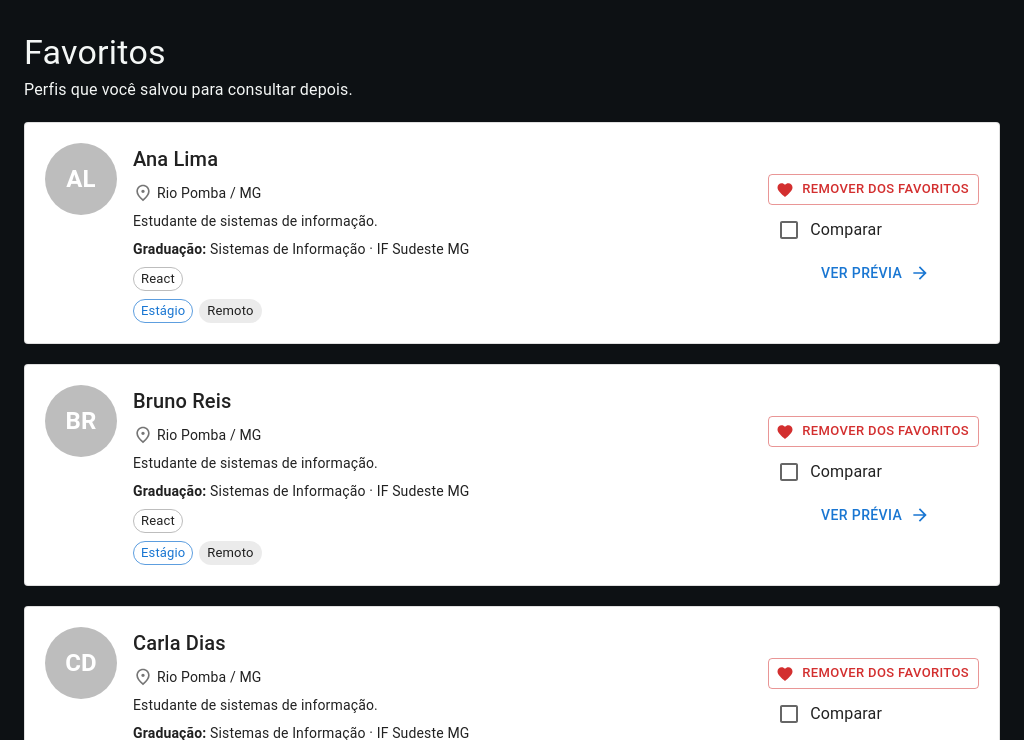
Test case: FavoritesView › selection for comparison › lets the user select two talents and blocks a third
This screenshot has width=1024, height=740.
Check: the heading "Ana Lima" is shown, box [133,143,218,175]
Click the 1st checkbox labelled "Comparar" at {"x": 830, "y": 230}, box [777,218,882,242]
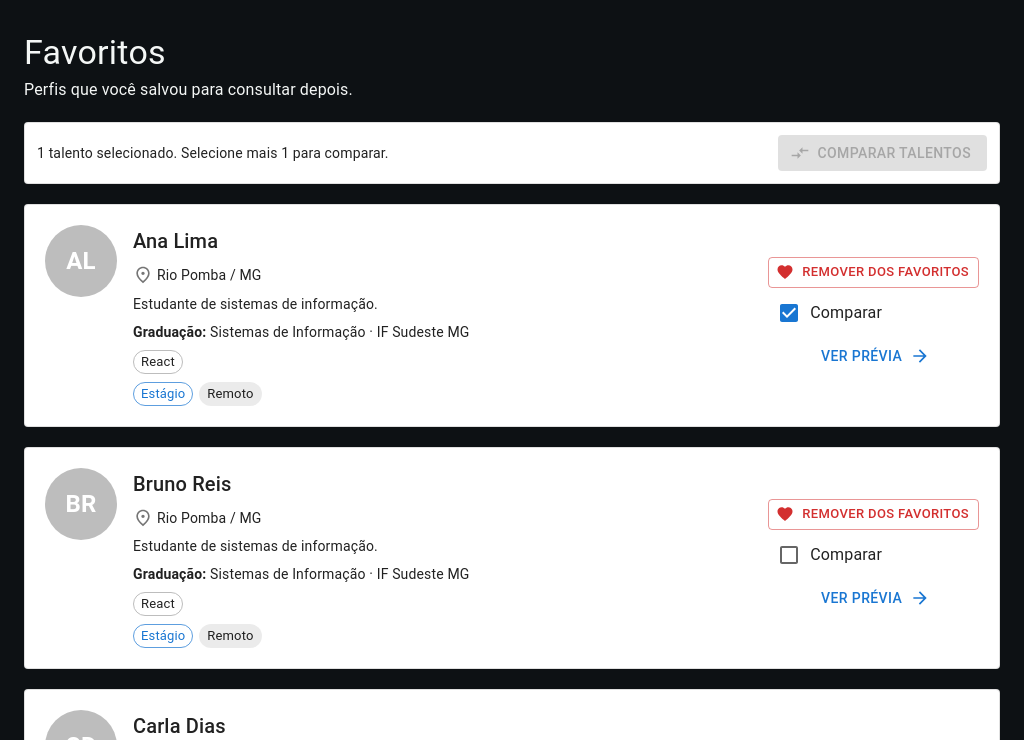
Check: the text "1 talento selecionado. Selecione mais 1 para comparar." is shown, box [37,143,389,163]
Click the 2nd checkbox labelled "Comparar" at {"x": 830, "y": 555}, box [777,543,882,567]
(page scrolled)
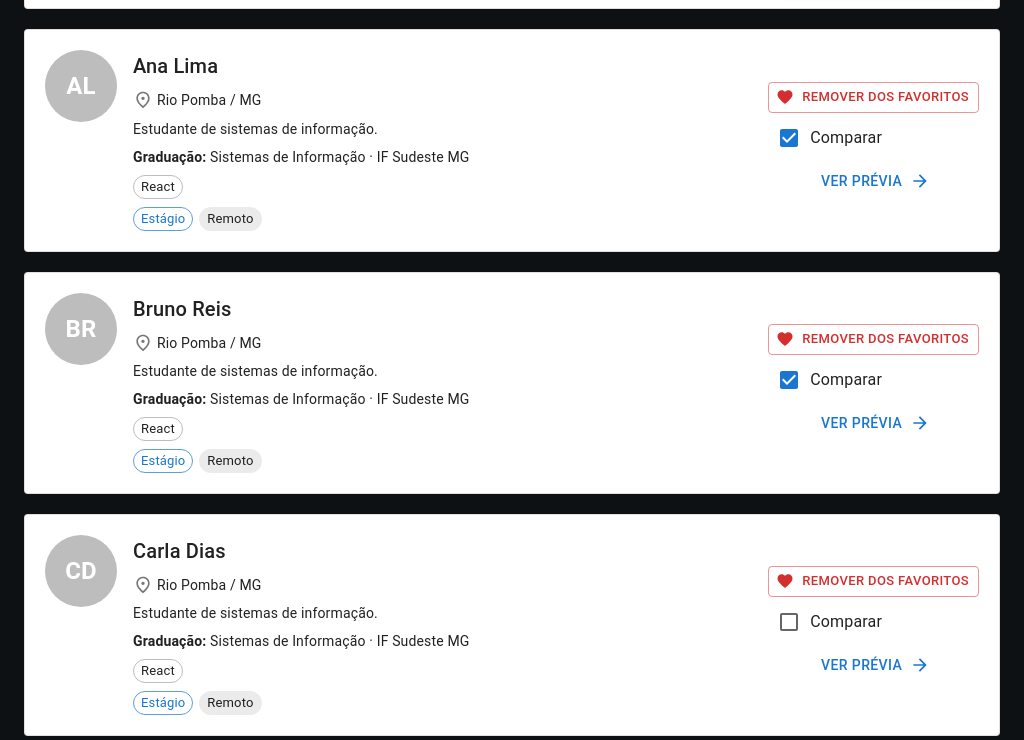
Click the 3rd checkbox labelled "Comparar" at {"x": 830, "y": 622}, box [777,610,882,634]
(page scrolled)
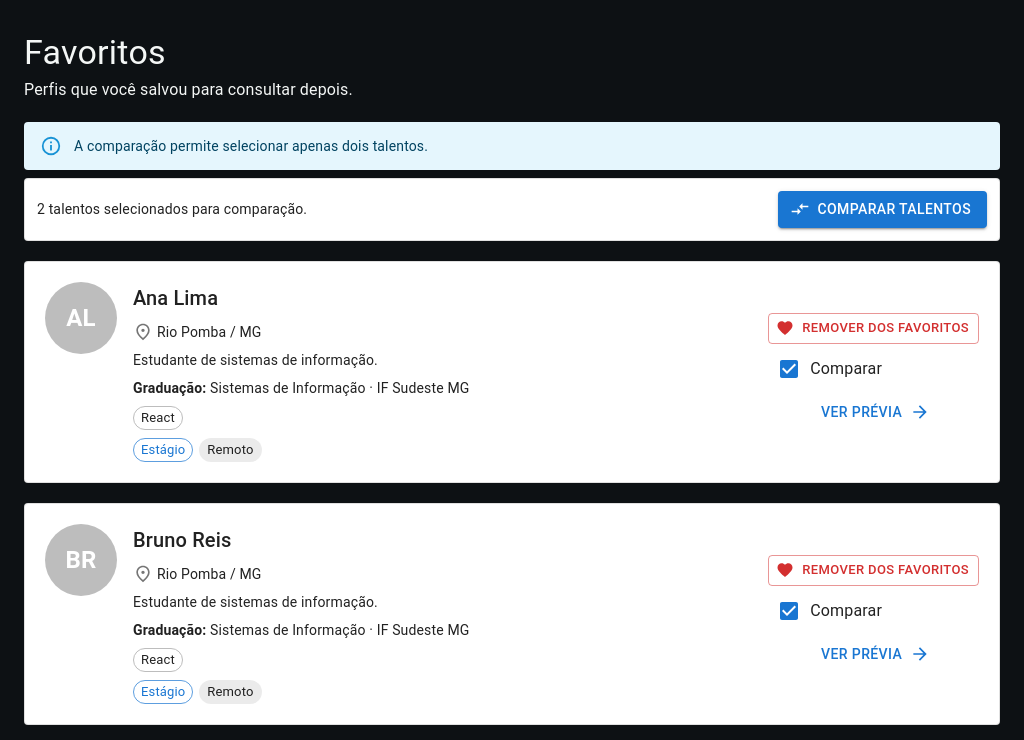
Check: the text "A comparação permite selecionar apenas dois talentos." is shown, box [74,138,428,154]
